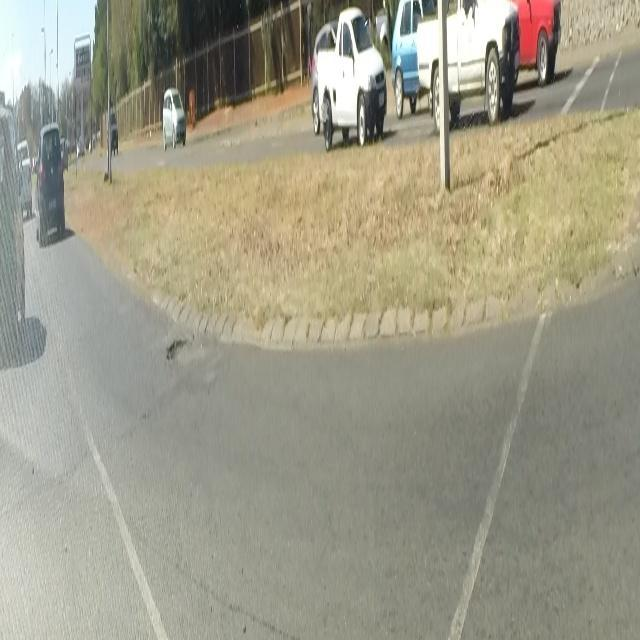pothole: (164, 334, 206, 366)
